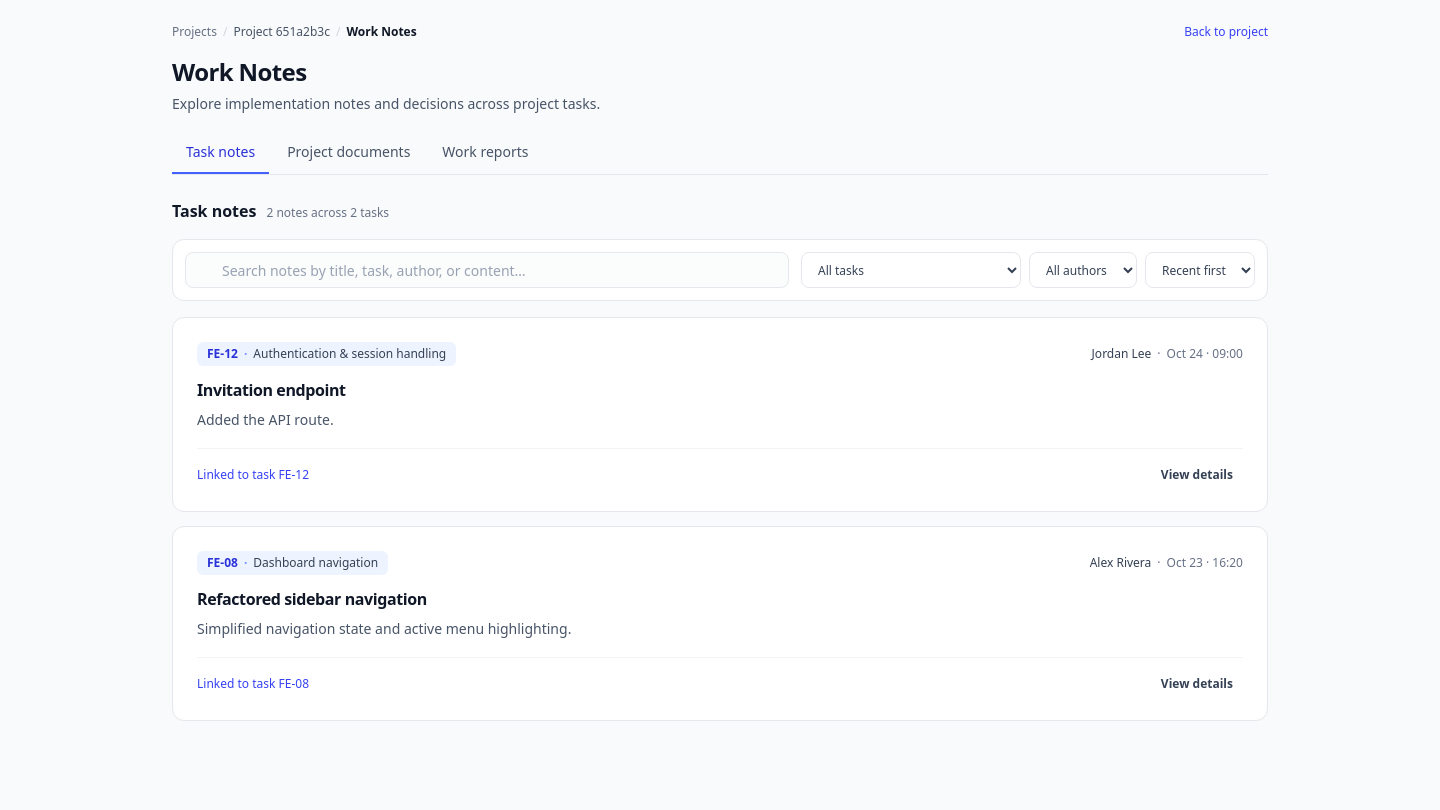
Test: Project task notes › filters notes by search, task, and author and supports resetting filters
Expected: the heading "Invitation endpoint" is shown, [197,379,346,401]
Expected: the heading "Refactored sidebar navigation" is shown, [197,588,427,610]
Select "FE-08 · Dashboard navigation" in the dropdown named "Filter by task" at coordinates (911, 270), box [801,252,1021,288]
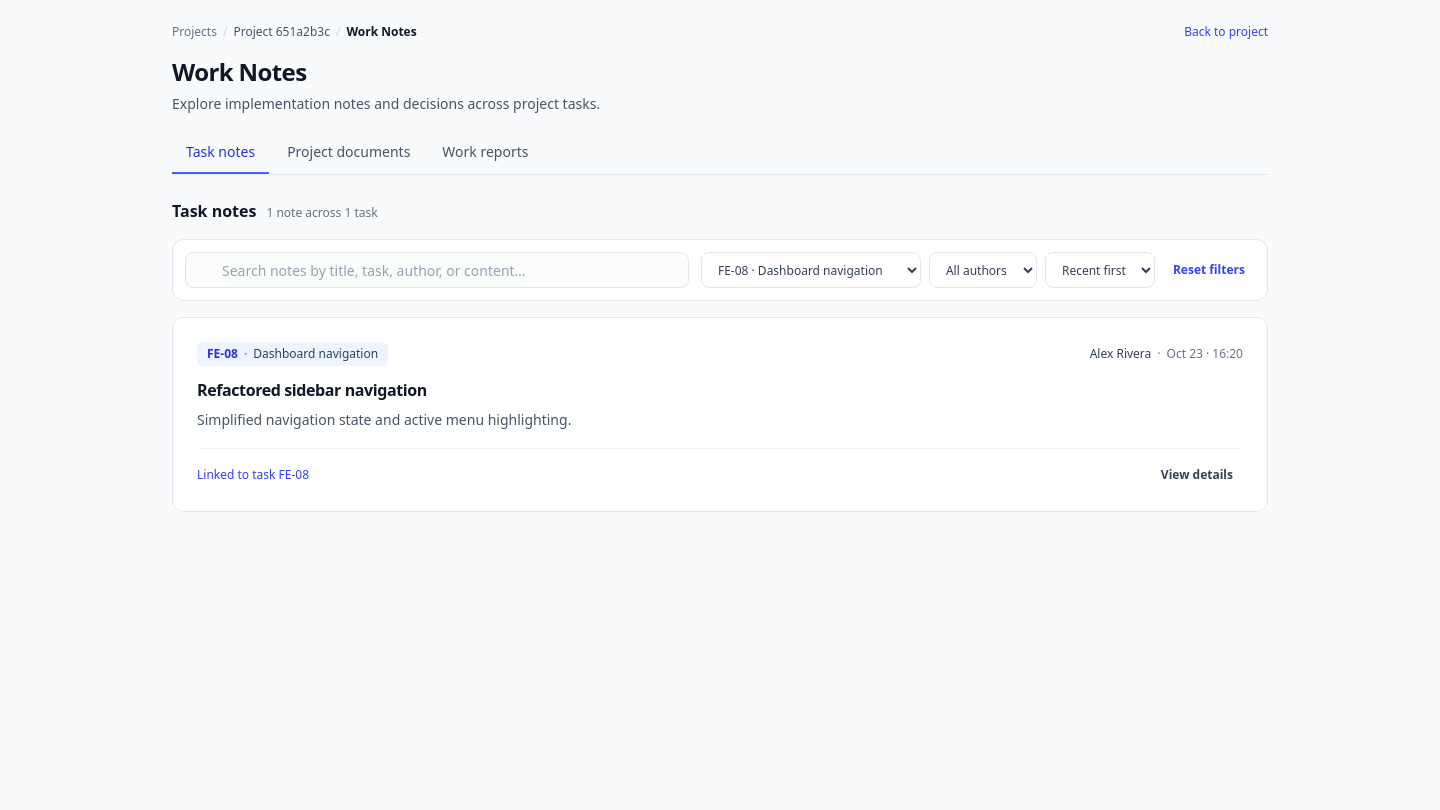
Expected: the heading "Refactored sidebar navigation" is shown, [197,379,427,401]
Result: the heading "Invitation endpoint" is gone
Result: the text "1 note across 1 task" is shown at [266,205,378,221]
Click the button "Reset filters" at coordinates (1209, 270), box [1163,252,1255,288]
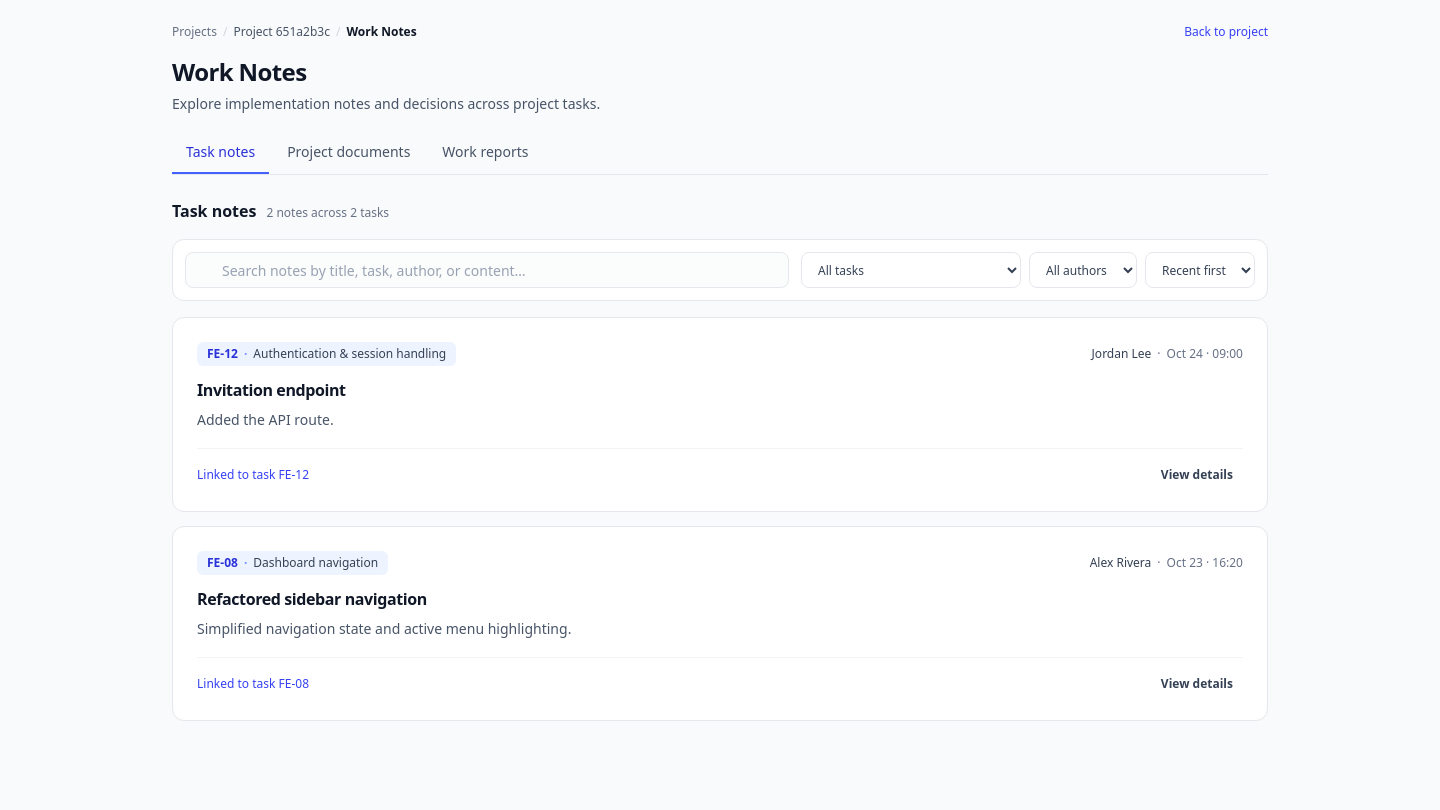
Result: the heading "Invitation endpoint" is shown at [197,379,346,401]
Select "Jordan Lee" in the dropdown named "Filter by author" at coordinates (1083, 270), box [1029,252,1137,288]
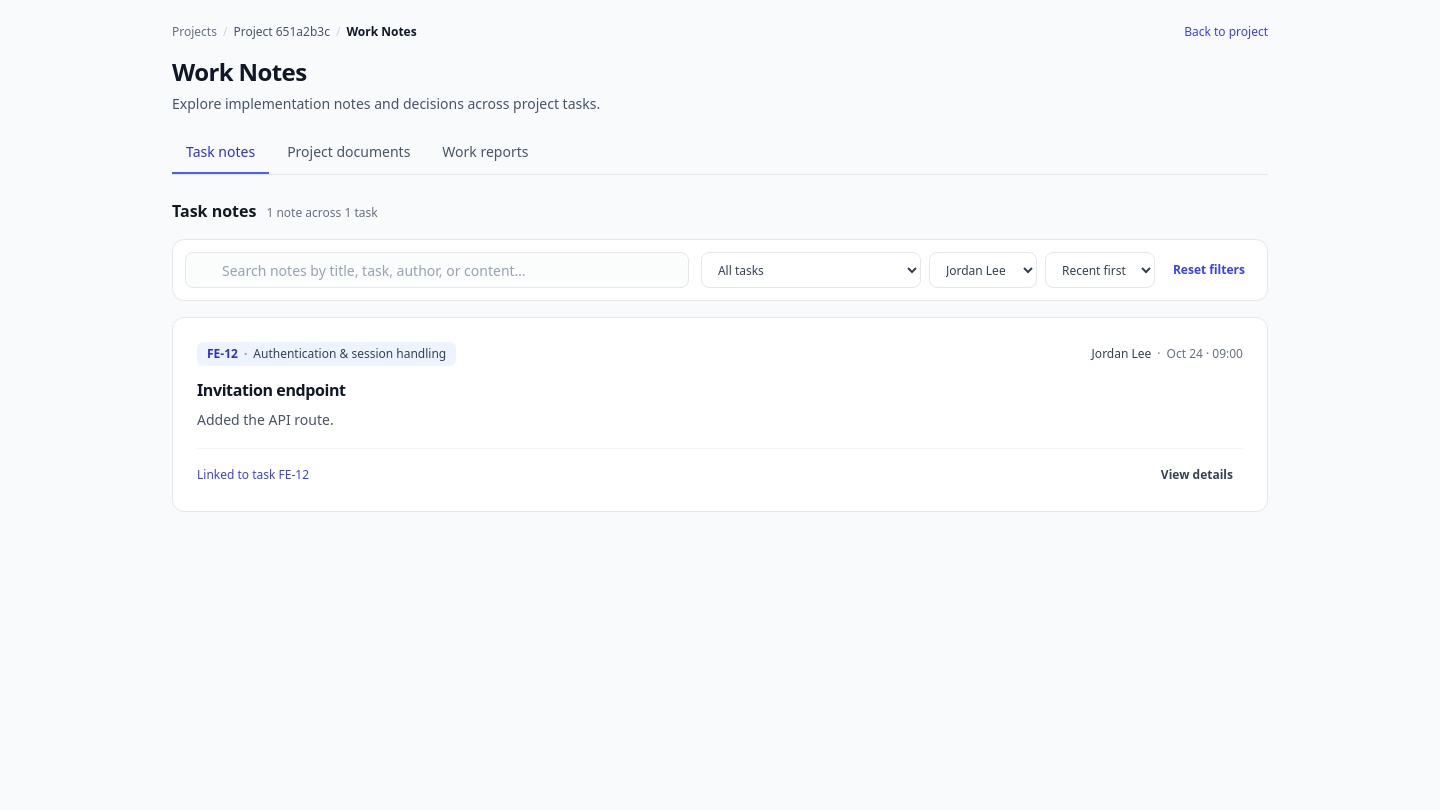
Result: the heading "Invitation endpoint" is shown at [197,379,346,401]
Result: the heading "Refactored sidebar navigation" is gone
